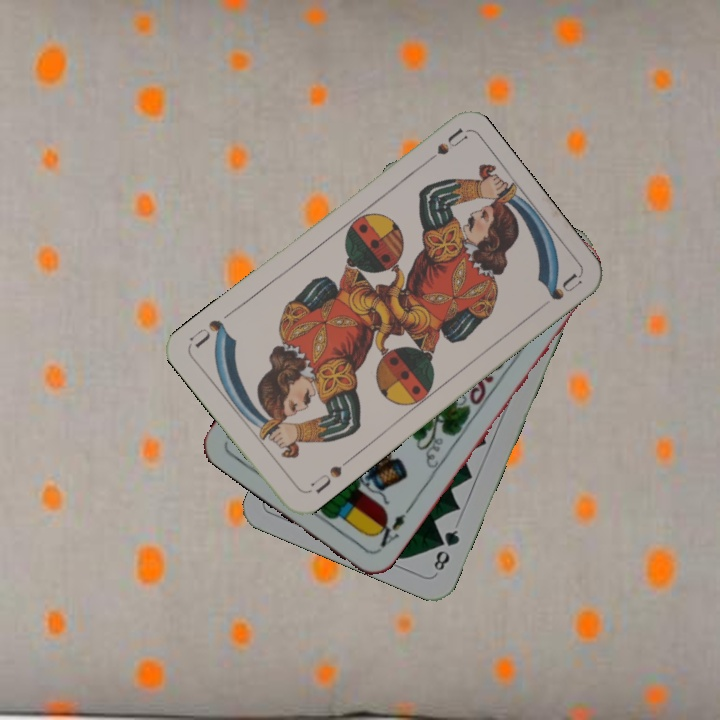EA: (369, 503, 414, 554)
G8: (429, 525, 462, 574)
SU: (416, 125, 469, 171), (306, 454, 353, 496)
